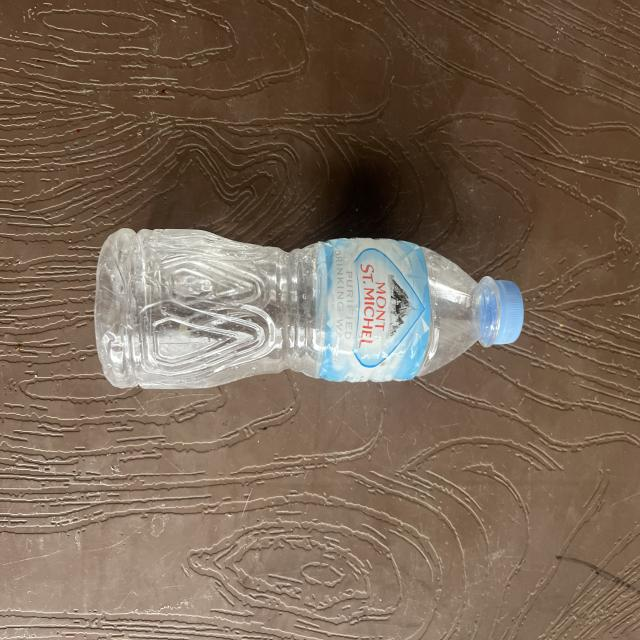REJECT: (98, 223, 483, 392)
